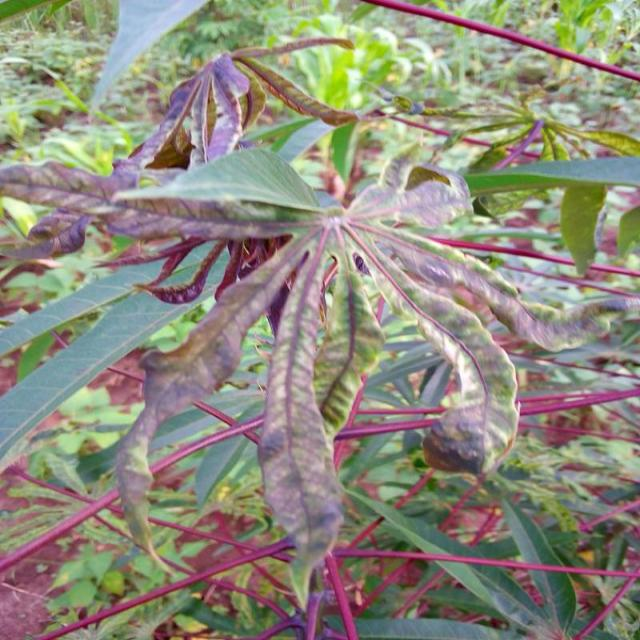cassava leaf: (2, 7, 638, 624)
